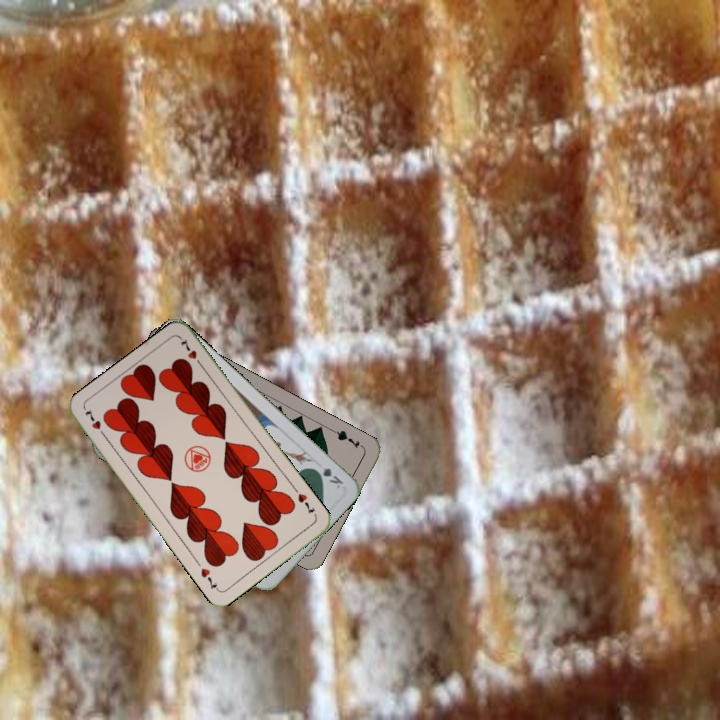G7: (329, 426, 362, 451)
GK: (309, 464, 346, 491)
H7: (81, 405, 109, 441), (294, 489, 317, 516)
